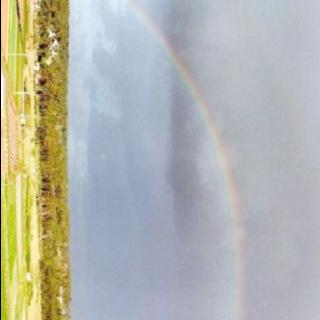Nimbostratus: (69, 0, 320, 320)
